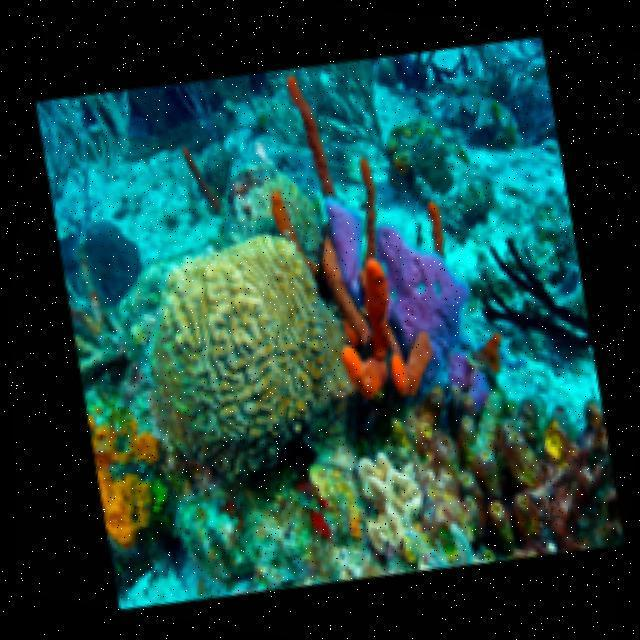Healthy Coral: (220, 88, 563, 458), (80, 170, 392, 549)
